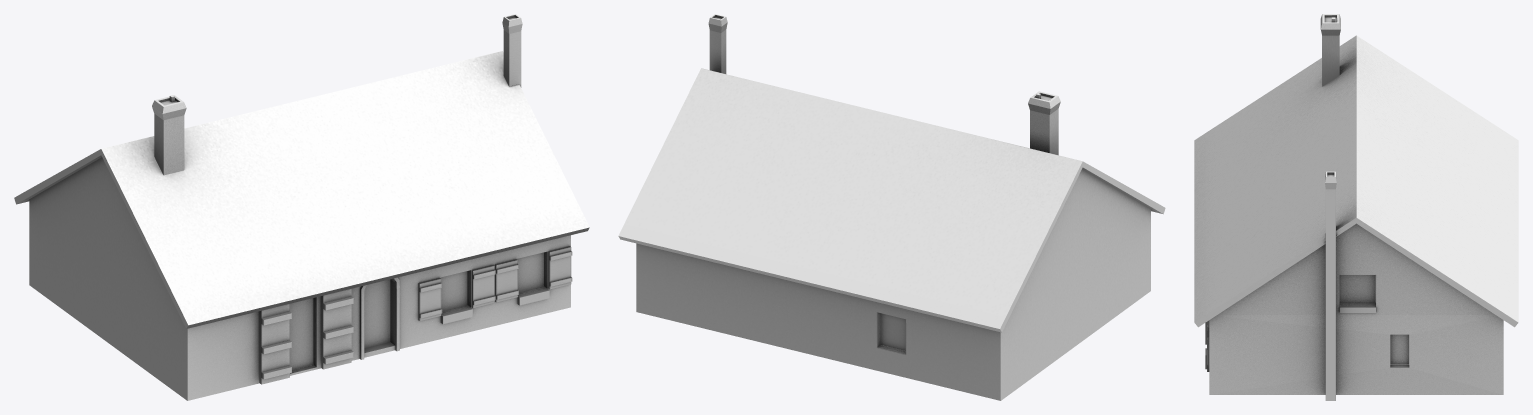
The model's file is House01.fbx.
3 views of the same model, side by side, from view 1: azimuth 30°, elevation 25°; view 2: azimuth 150°, elevation 25°; view 3: azimuth 270°, elevation 25° (orthographic). The views are drawn at different scales.
Visible parts, largest first — view 1: Cube.001; view 2: Cube.001; view 3: Cube.001.
Boxes of the visible parts, bbox=[...] form: Cube.001: bbox=[14, 14, 589, 400]; Cube.001: bbox=[618, 14, 1165, 400]; Cube.001: bbox=[1194, 14, 1518, 400].
Size of the model in its own units: 1477 by 850 by 1102.
1 material, 1 textured.
